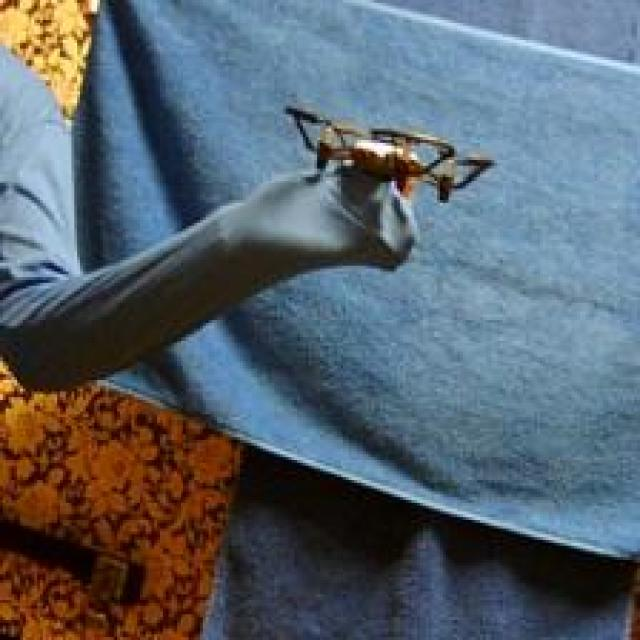drone: (280, 93, 491, 210)
